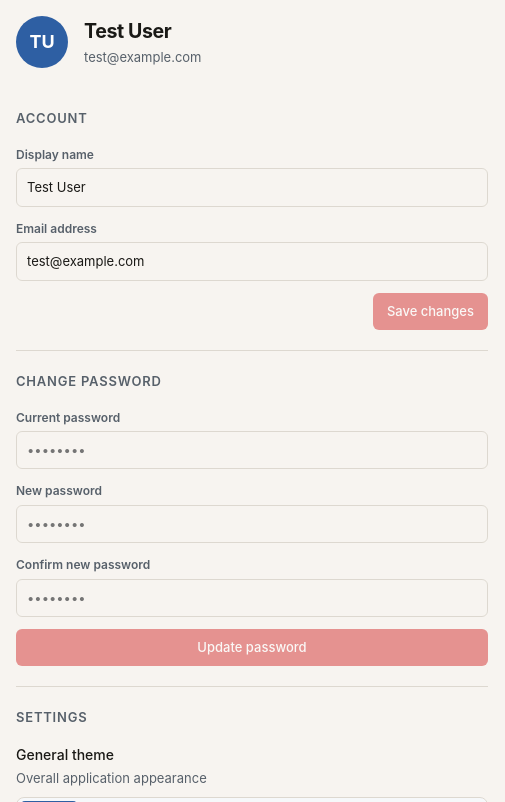
Test case: AccountPage — account info › disables Save changes until the name actually changes
The width and height of the screenshot is (505, 802).
Expected: the button "Save changes" is disabled, [373,293,488,330]
Replace the text in the field labelled "Display name" with "New Name" at point(252, 188), box [16,168,488,207]
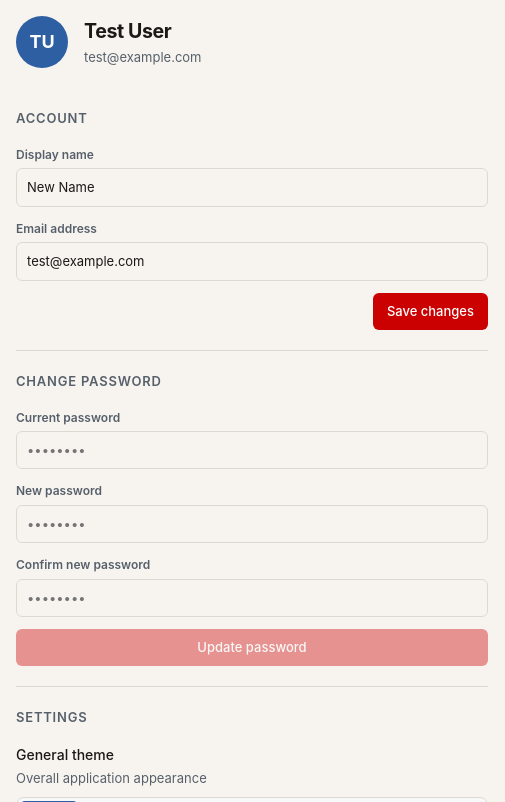
Expected: the button "Save changes" is enabled, [373,293,488,330]
